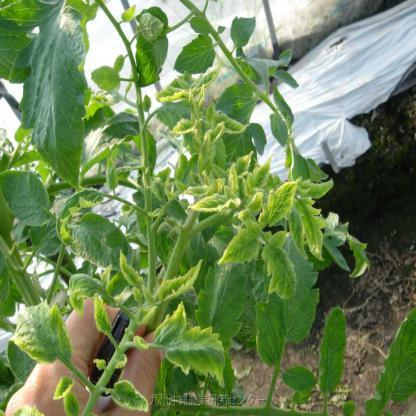Tomato leaf: (152, 306, 236, 390), (11, 301, 82, 376), (142, 254, 206, 316), (215, 221, 266, 268), (262, 237, 297, 303), (68, 268, 122, 306), (261, 180, 299, 228), (110, 377, 150, 415), (186, 191, 234, 219), (168, 113, 198, 142)
